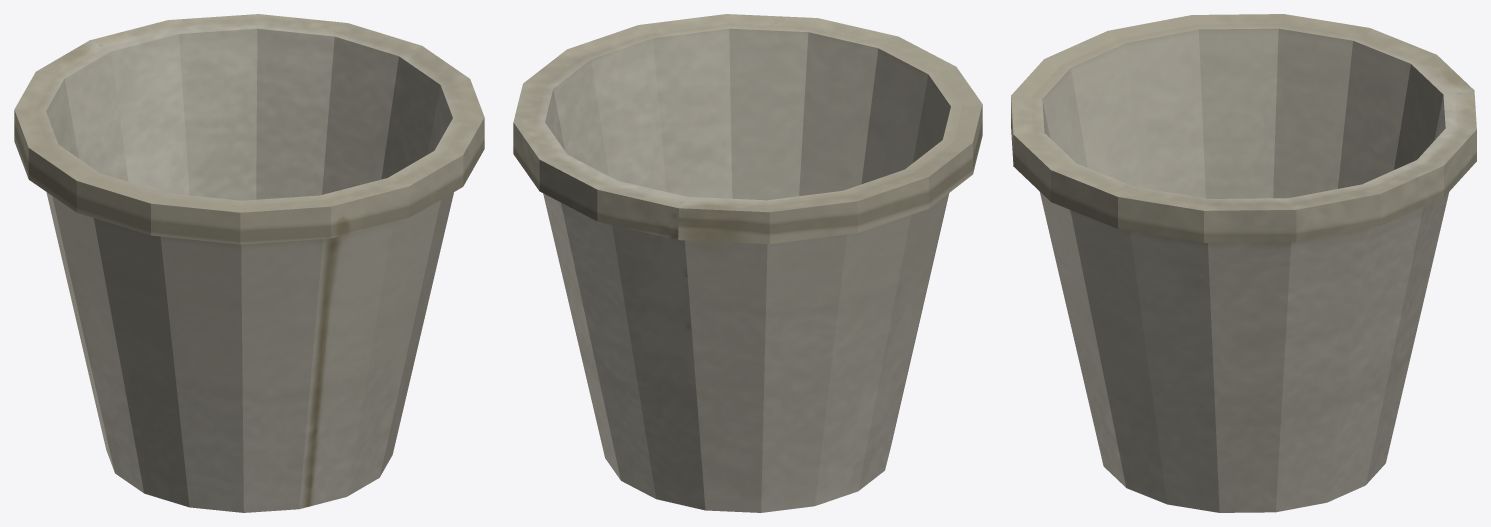
Rendered from emptycup.fbx.
The picture shows the model from 3 angles, left to right: view 1: azimuth 30°, elevation 25°; view 2: azimuth 150°, elevation 25°; view 3: azimuth 270°, elevation 25°; orthographic projection.
Visible parts, largest first — view 1: EmptyCup; view 2: EmptyCup; view 3: EmptyCup.
Boxes of the visible parts, x1,y1,x2,y2 form: EmptyCup: (14,14,484,512); EmptyCup: (513,14,982,512); EmptyCup: (1011,14,1476,512).
Size of the model in its own units: 16.08 by 12.97 by 16.08.
